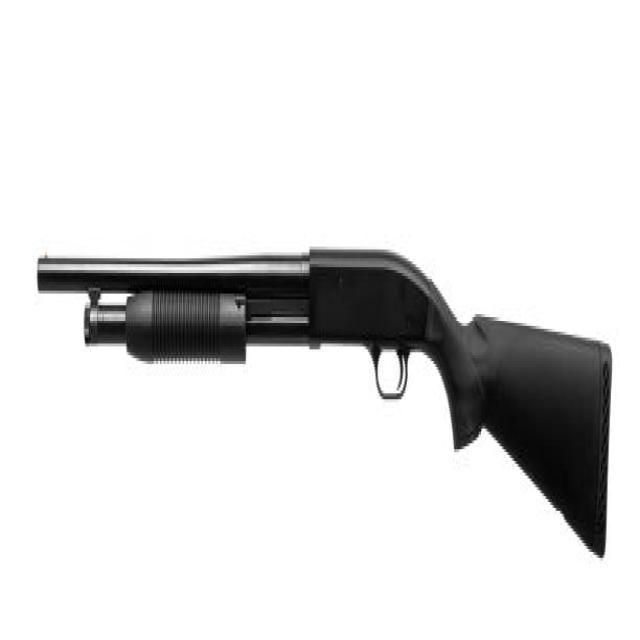rifle: (35, 216, 620, 569)
